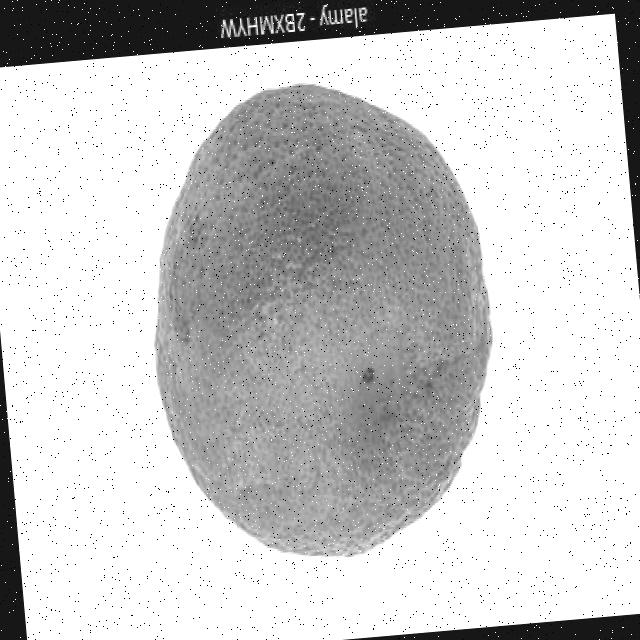overripe: (129, 60, 519, 582)
